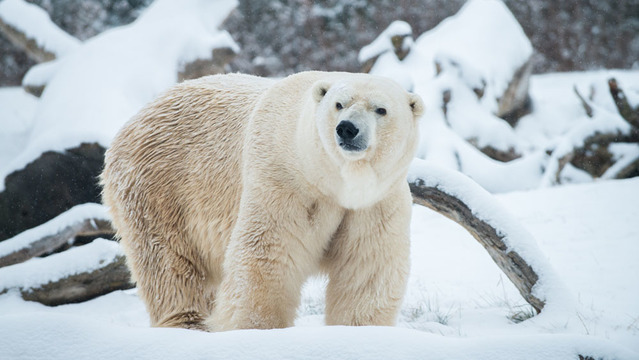Polar Bear: (77, 50, 454, 360)
